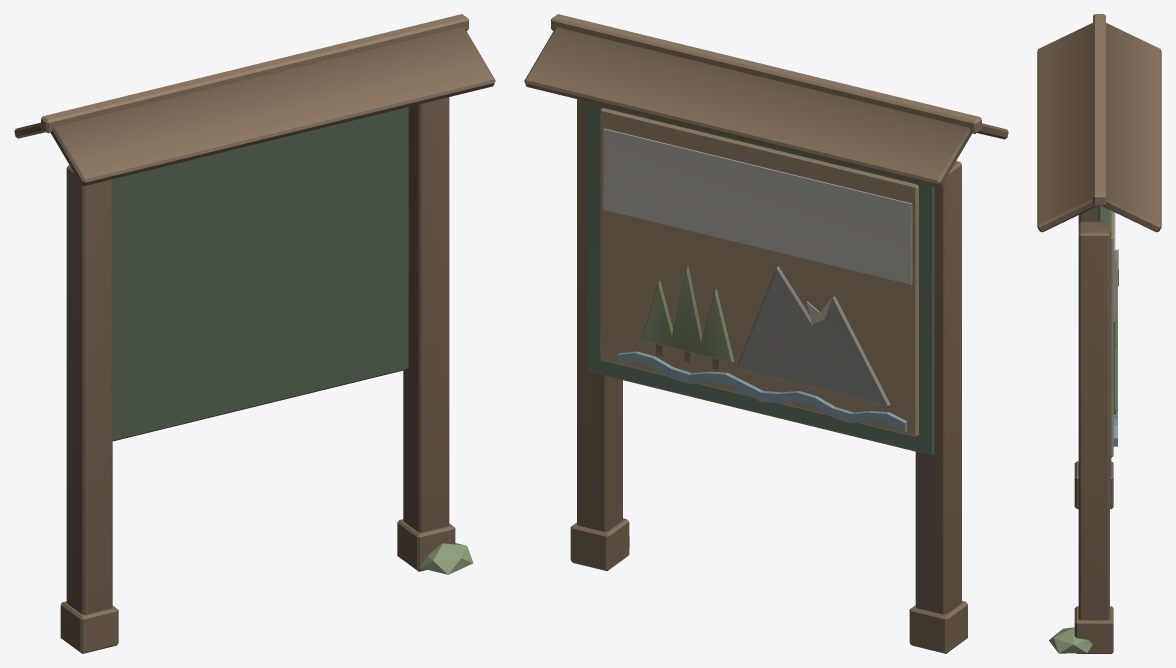
The model's file is sign_reserve.glb.
The picture shows the model from 3 angles, left to right: view 1: azimuth 30°, elevation 25°; view 2: azimuth 150°, elevation 25°; view 3: azimuth 270°, elevation 25°; orthographic projection. The views are drawn at different scales.
Parts seen in each view (by area): view 1: sign_reserve; view 2: sign_reserve; view 3: sign_reserve.
Part boxes in pixels (x1,y1,x2,y2): sign_reserve: (14, 14, 495, 653); sign_reserve: (524, 14, 1008, 653); sign_reserve: (1037, 14, 1161, 653).
Bounding box in the file's own units: 1.66 × 1.99 × 0.4773.
